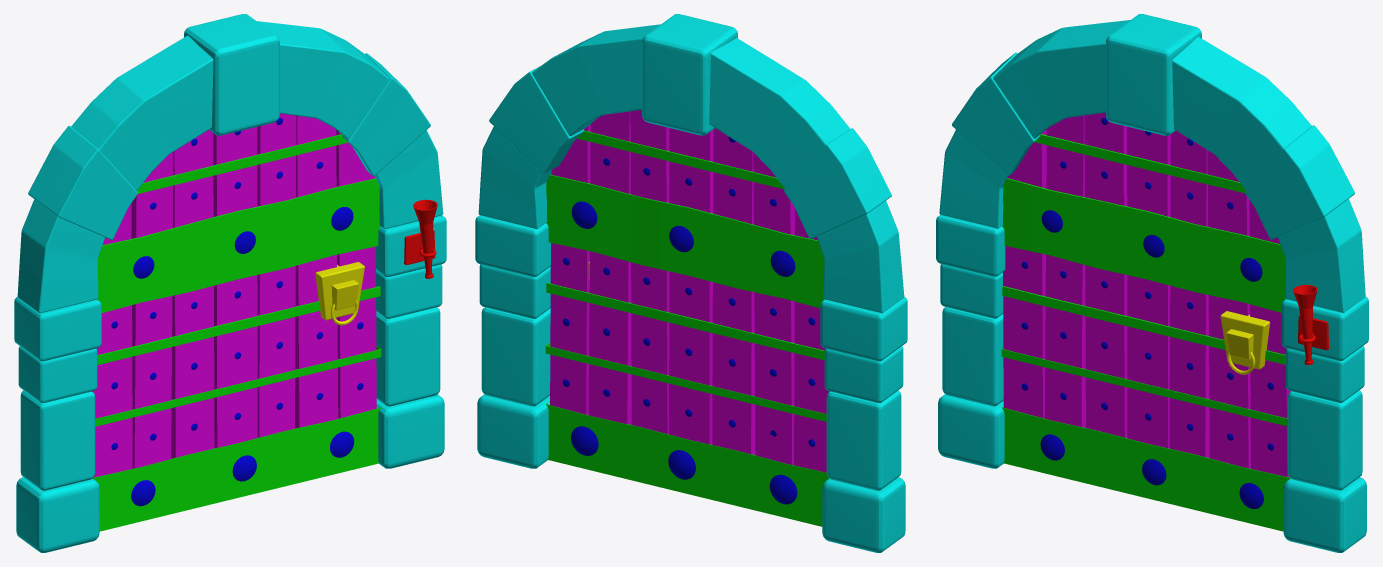
The model's file is door_low.fbx.
3 renders of one model, left to right at view 1: azimuth 30°, elevation 25°; view 2: azimuth 150°, elevation 25°; view 3: azimuth 330°, elevation 25°, orthographic.
Parts seen in each view (by area): view 1: piller_low, wood_low, metal_low, circles_low, lock_low, torch_low; view 2: piller_low, wood_low, metal_low, circles_low; view 3: piller_low, wood_low, metal_low, circles_low, lock_low, torch_low.
Part boxes in pixels (x1,y1,x2,y2): piller_low: (14,14,446,552); wood_low: (92,113,376,477); metal_low: (93,134,381,531); circles_low: (111,118,363,506); lock_low: (315,262,364,325); torch_low: (404,199,437,278); piller_low: (475,14,907,552); wood_low: (550,109,829,472); metal_low: (545,130,828,526); circles_low: (562,137,815,504); piller_low: (936,14,1368,552); wood_low: (1003,112,1290,477); metal_low: (1001,134,1290,531); circles_low: (1021,118,1273,508); lock_low: (1220,311,1269,374); torch_low: (1293,284,1328,364).
Bounding box in the file's own units: 7.02 × 7.67 × 1.33.
